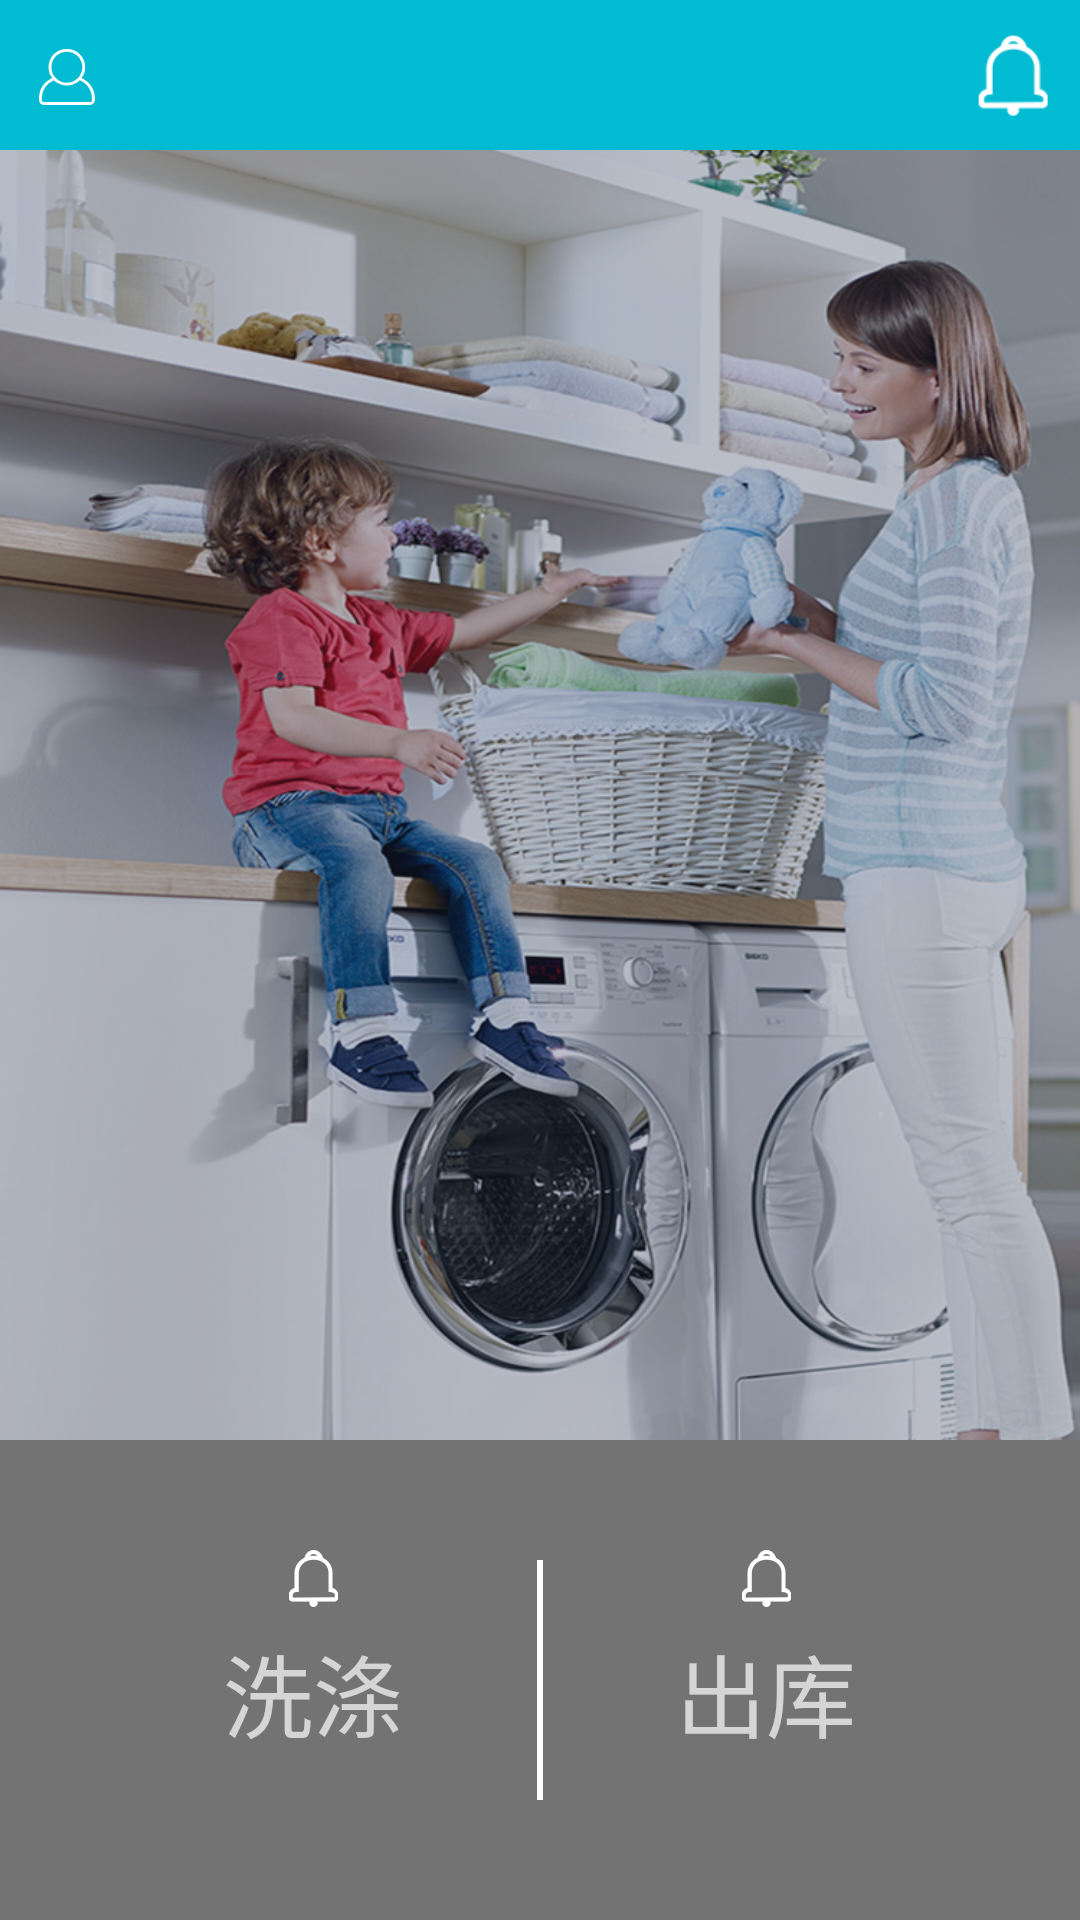

Icons on this 1080 × 1920 Android screen, each with its box as box(x1, y1, x2, y2):
iocn notice: box(978, 35, 1048, 116)
wodeq: box(39, 49, 95, 105)
